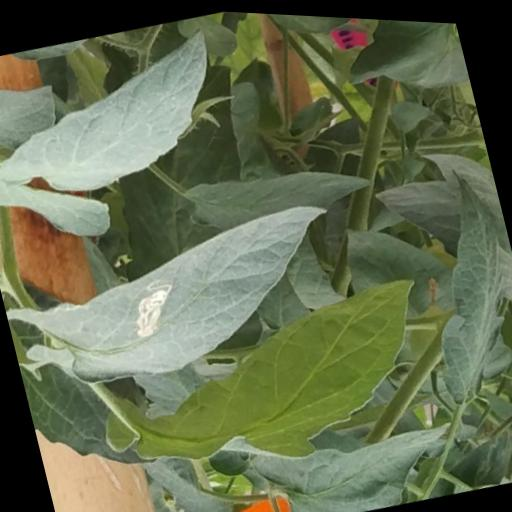Healthy: (0, 13, 237, 218), (390, 154, 512, 405)
Leaf_Miner: (0, 182, 357, 413)
